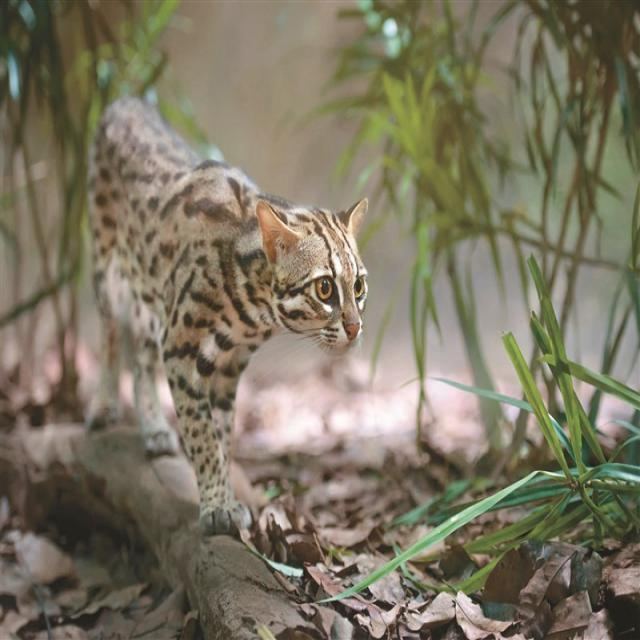leopard: (72, 84, 390, 483)
